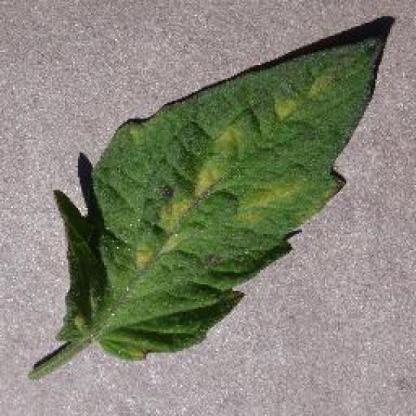Tomato_Leaf_Mold: (51, 39, 385, 337)
